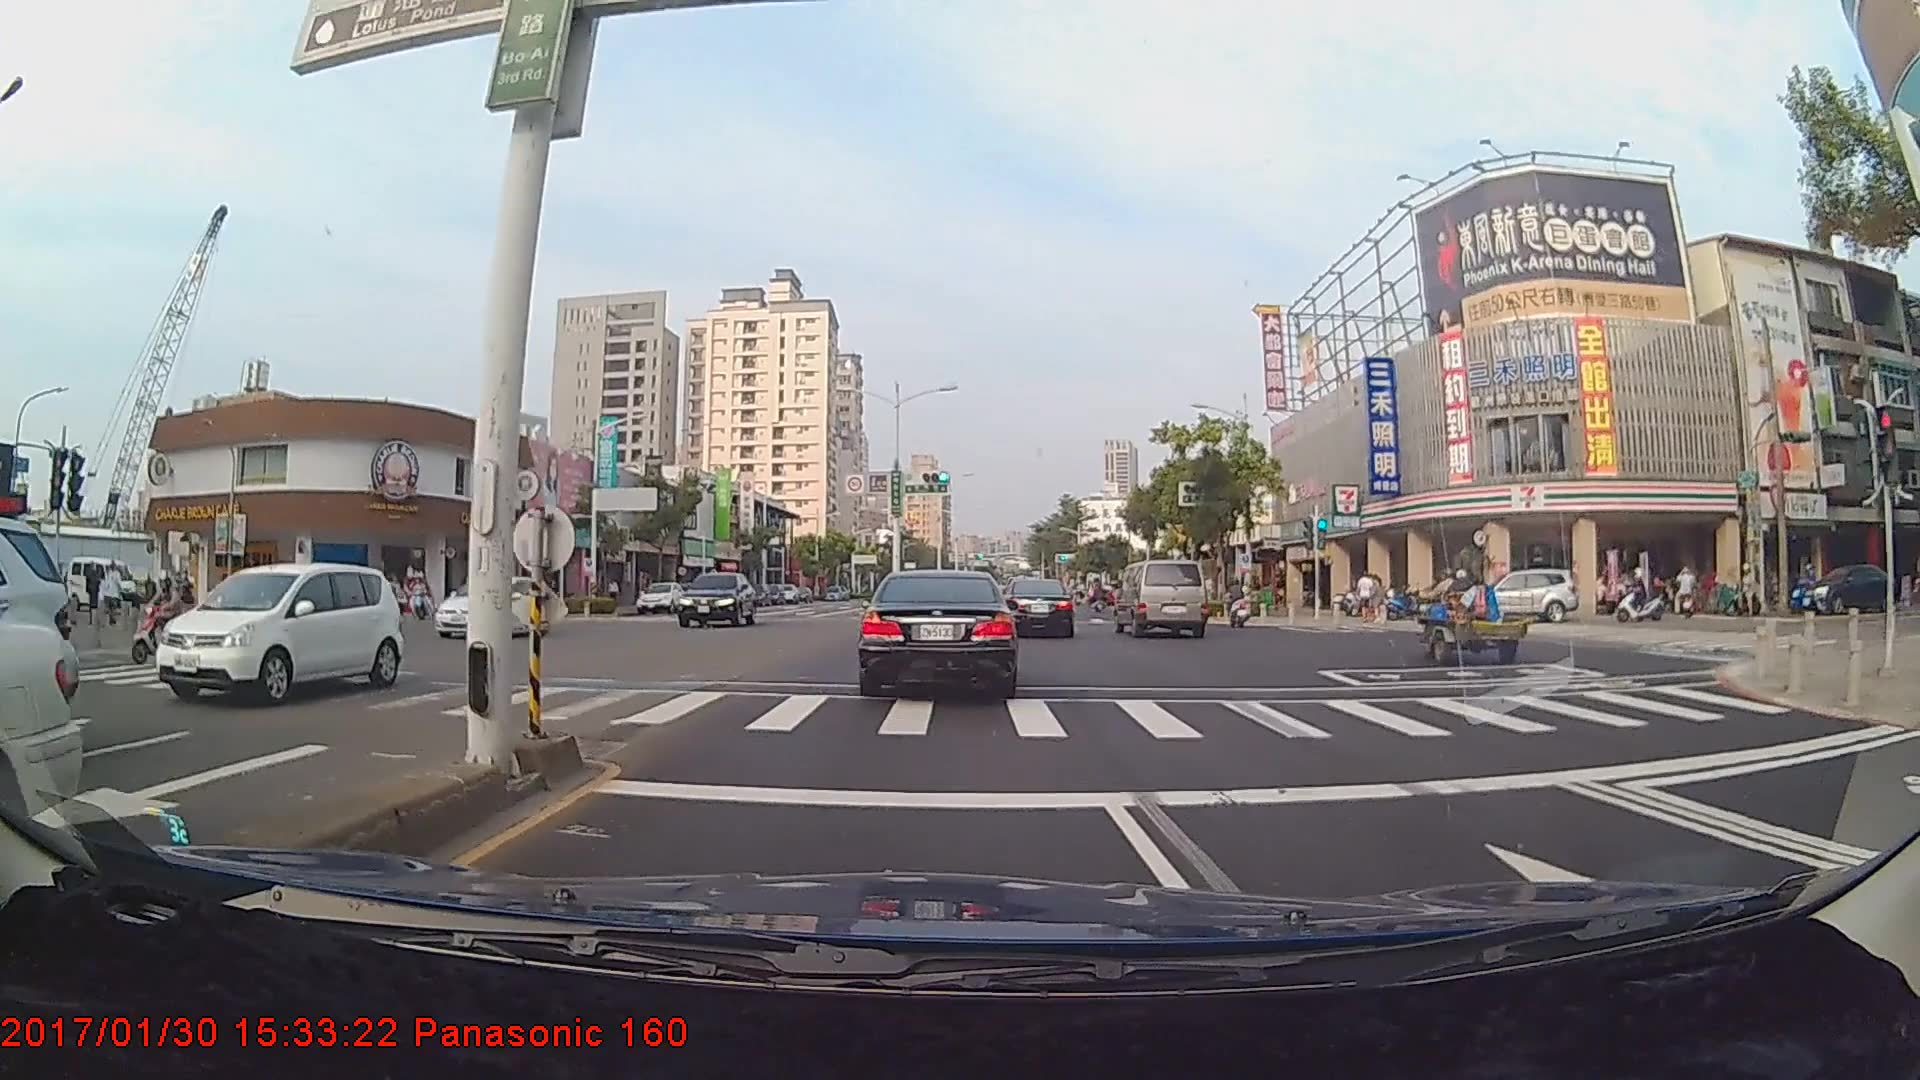pedestrian: (99, 560, 127, 629), (84, 560, 104, 623), (1355, 569, 1375, 622)
rider: (124, 566, 207, 670), (1612, 565, 1677, 631), (1216, 578, 1255, 632)
vehicle: (142, 559, 397, 704), (0, 544, 80, 883), (860, 568, 1018, 700), (432, 569, 544, 640), (1434, 572, 1575, 627), (1116, 559, 1207, 638), (676, 571, 757, 628), (1003, 578, 1076, 638), (634, 580, 685, 613)
